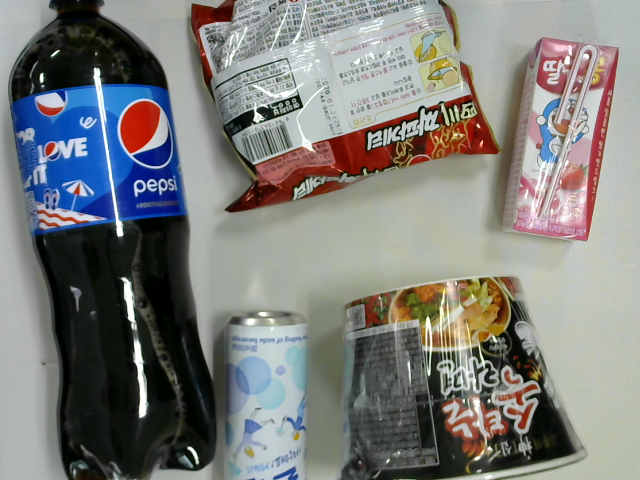HeJangsock: (335, 272, 590, 480)
Milkies_250ml: (223, 310, 311, 480)
Pepsi_Cola_1.5L: (8, 1, 219, 480)
Sichuan_Chapaghetti: (188, 1, 502, 214)
Strawberry_E_Mong: (502, 36, 620, 243)
